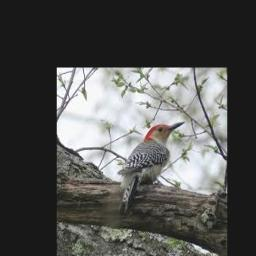Woodpecker: (118, 121, 185, 213)
